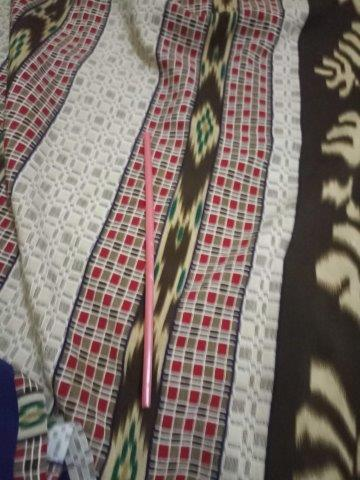sedotan: (142, 133, 153, 407)
